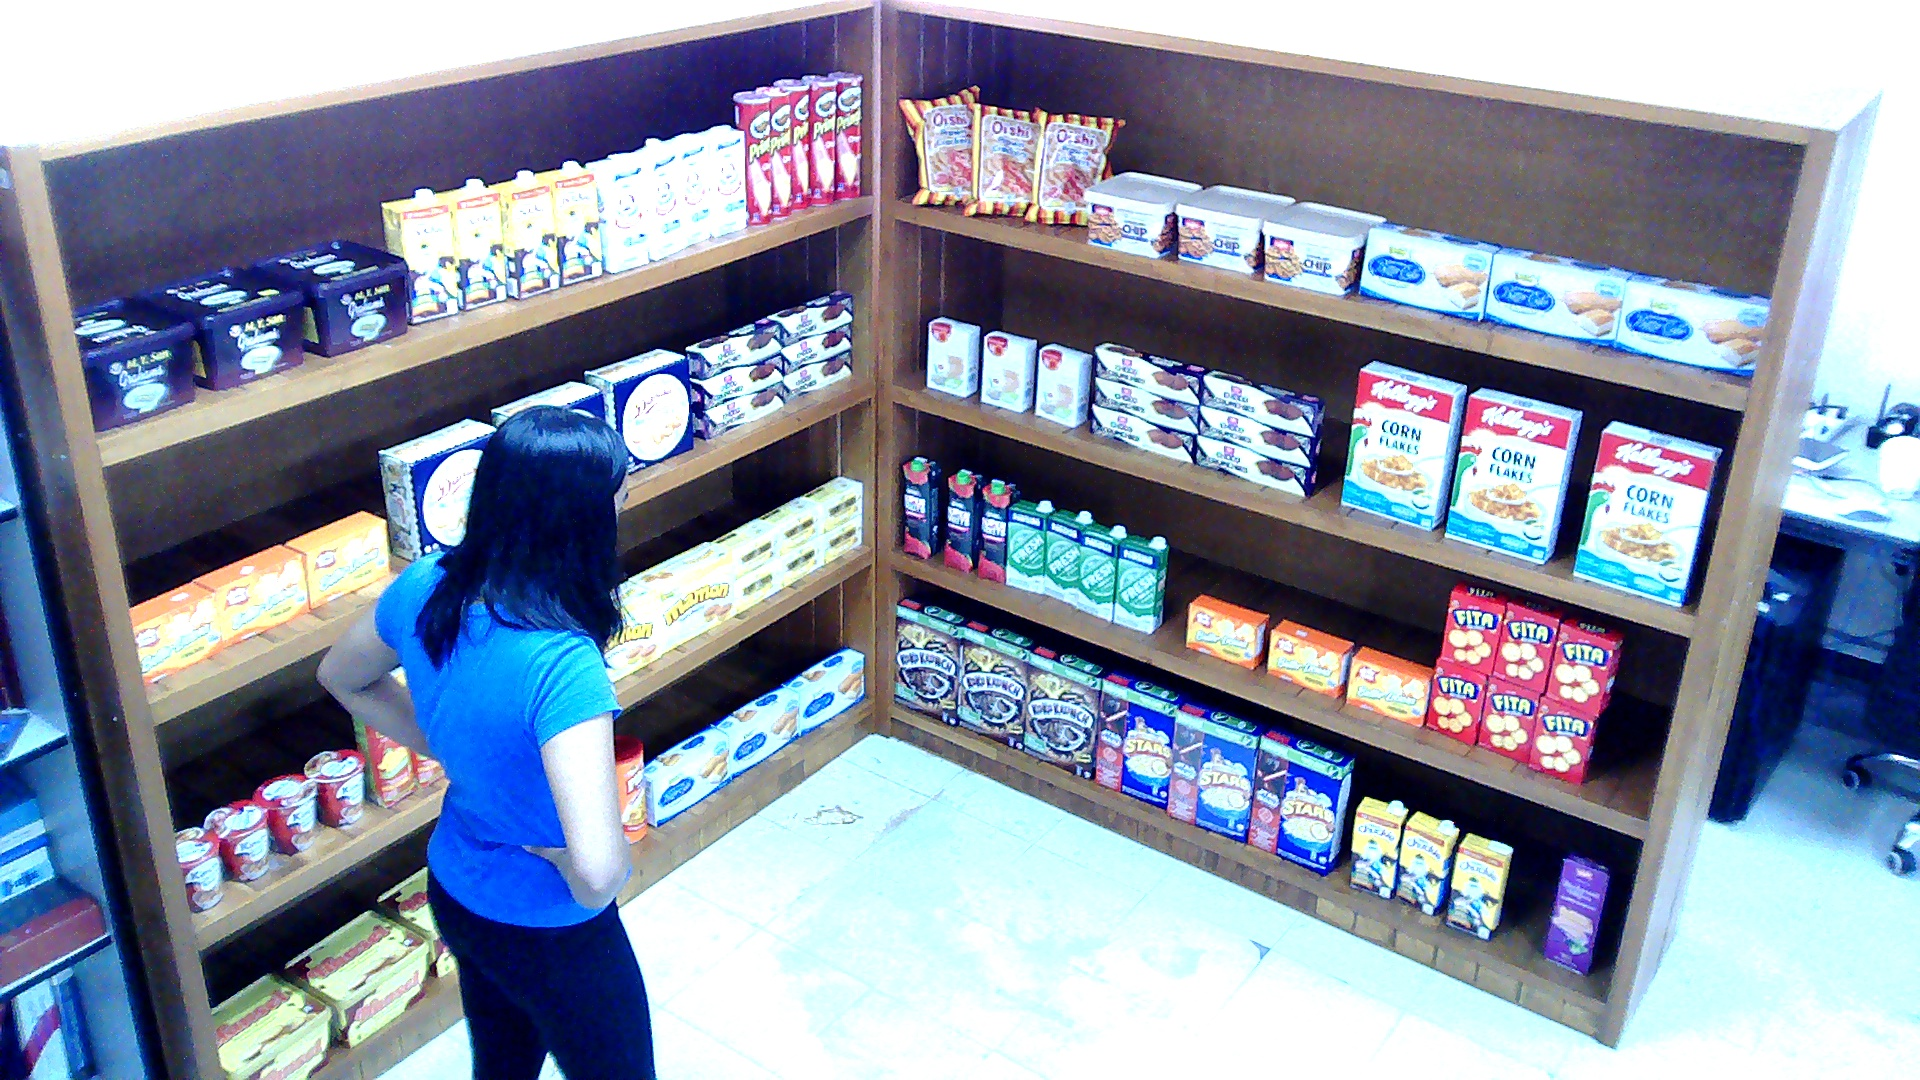Bear brand: (585, 153, 648, 272), (633, 135, 684, 259), (696, 123, 744, 236), (669, 132, 711, 245)
Buttercake: (1614, 272, 1770, 378), (1482, 245, 1638, 348), (1359, 220, 1503, 319)
Butterlicious: (192, 542, 309, 648), (282, 508, 390, 607), (126, 580, 222, 686), (1344, 645, 1434, 726), (1265, 616, 1352, 697), (1185, 592, 1269, 668)
Camomille: (711, 517, 777, 578), (759, 494, 822, 553), (801, 475, 861, 531), (734, 558, 779, 612), (780, 535, 825, 584), (825, 513, 861, 562)
Choco Crunchies: (1199, 369, 1322, 437), (1194, 434, 1320, 495), (1200, 405, 1320, 468), (1092, 341, 1206, 404), (1088, 404, 1193, 463), (684, 317, 780, 378), (1092, 378, 1197, 434), (690, 350, 780, 409), (690, 383, 783, 439), (765, 288, 852, 344), (782, 349, 851, 401), (780, 324, 852, 373)
Chocolate Chips: (1263, 201, 1386, 295), (1173, 182, 1296, 272), (1083, 171, 1203, 257)
Chuckie: (378, 188, 459, 323), (488, 169, 557, 299), (441, 178, 507, 308), (534, 160, 600, 284), (1446, 830, 1512, 940), (1395, 810, 1461, 916), (1347, 796, 1407, 899)
Danisa: (378, 418, 498, 560), (581, 346, 692, 470)
Fita: (1545, 614, 1623, 717), (1439, 578, 1514, 675), (1494, 596, 1566, 693), (1527, 695, 1599, 785), (1475, 675, 1538, 765), (1428, 657, 1488, 745)
Fresh Milk: (1112, 533, 1169, 632), (1074, 522, 1128, 621), (1043, 508, 1094, 605), (1005, 500, 1056, 594)
Grahams: (135, 265, 303, 389), (246, 236, 408, 358), (69, 294, 195, 429)
Hansel: (284, 909, 425, 1049), (210, 970, 330, 1078)
Head: (462, 396, 636, 607)
Honey Stars: (1245, 724, 1356, 875), (1167, 698, 1269, 844), (1092, 668, 1188, 810)
Kellogg Corn Flakes: (1572, 418, 1722, 607), (1446, 387, 1584, 565), (1338, 360, 1467, 531)
Kimchi Noodles: (251, 771, 314, 854), (204, 800, 270, 879), (303, 749, 363, 828), (174, 826, 222, 912)
Koko Krunch: (1023, 641, 1110, 781), (959, 616, 1034, 751), (893, 593, 968, 726)
Locally Mango: (348, 714, 417, 808)
Mamon: (627, 539, 735, 654), (641, 726, 728, 827), (711, 684, 798, 778), (782, 646, 863, 734)
Oishi Prawn: (1020, 105, 1128, 224), (893, 83, 980, 207), (963, 103, 1038, 216)
Pik-nik: (615, 736, 645, 842)
Pringles: (732, 89, 774, 224), (753, 86, 792, 216), (801, 74, 837, 202), (771, 79, 807, 209), (828, 70, 861, 198)
Super Fruits: (974, 477, 1019, 585), (900, 452, 942, 558), (942, 468, 984, 571)
Wafer: (1541, 850, 1616, 976)
iHop: (978, 328, 1038, 411), (1034, 342, 1091, 425), (927, 315, 978, 396)
